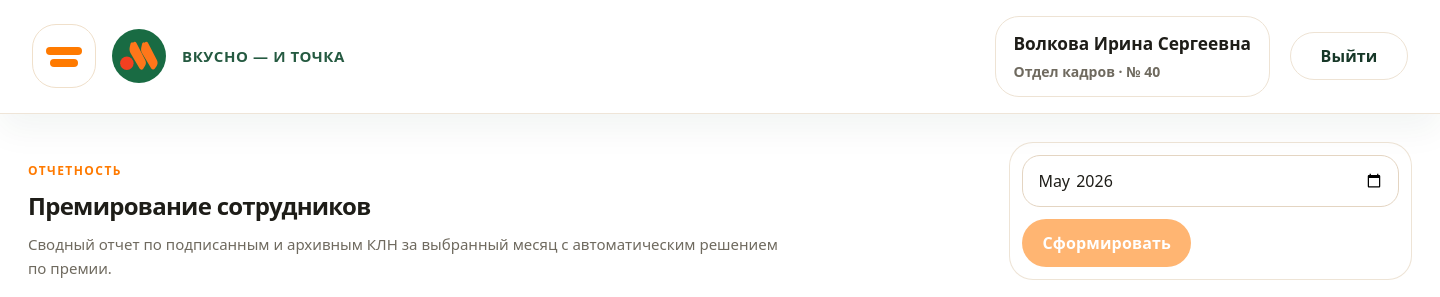
App.vue › hides the templates section for HR users
Click the button with class "menu-toggle": (64, 56) [32,24,96,88]
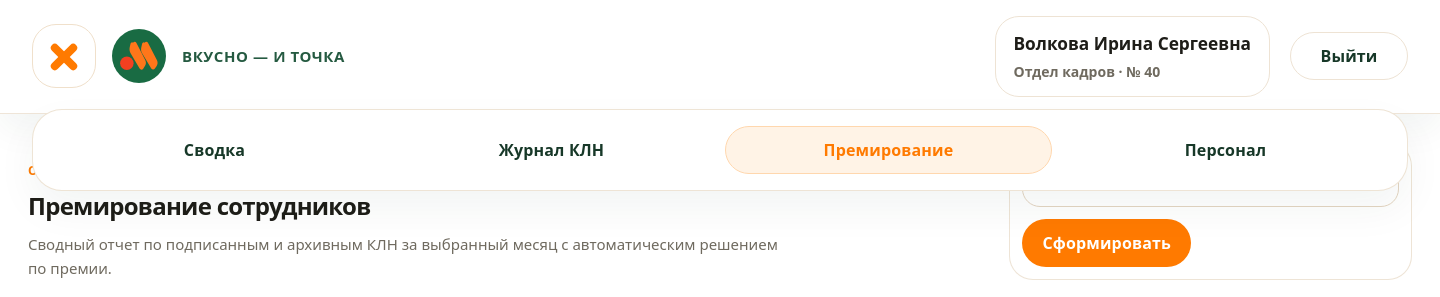
Expected: the navigation bar with class "sidebar-nav" shows "Премирование", [725,126,1052,174]
Expected: the navigation bar with class "sidebar-nav" shows "Персонал", [1062,126,1389,174]
